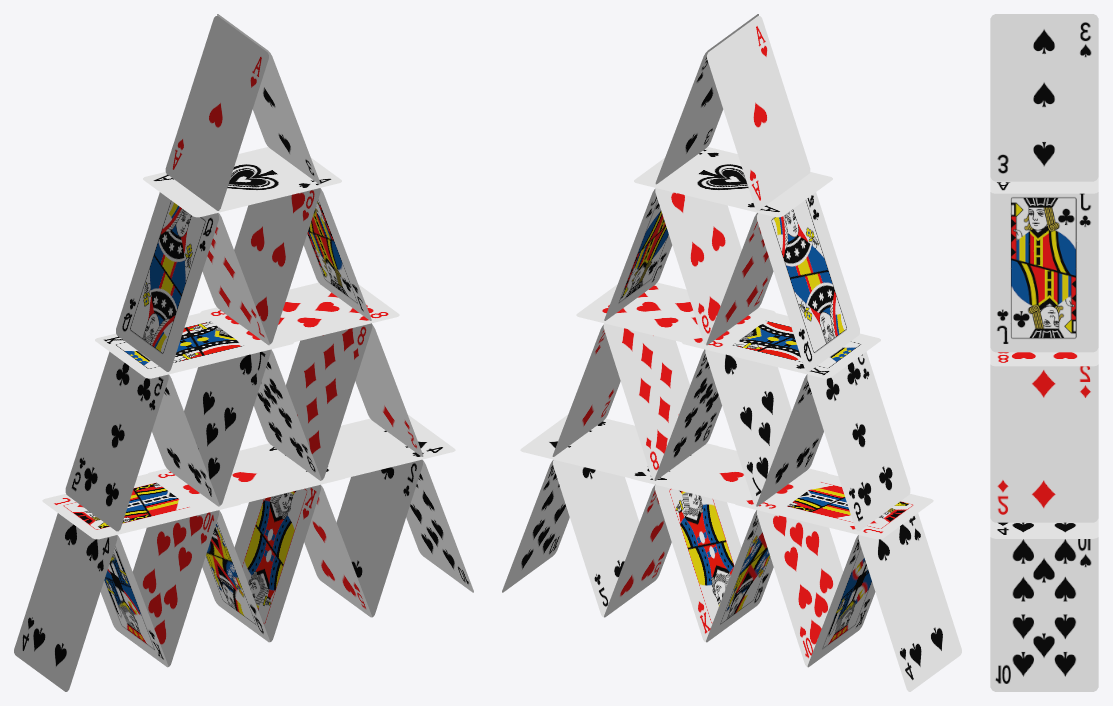
File: Tower_00.fbx
3 views of the same model, side by side, from view 1: azimuth 30°, elevation 25°; view 2: azimuth 150°, elevation 25°; view 3: azimuth 270°, elevation 25° (orthographic).
Visible parts, largest first — view 1: Spade_Club, Heart_Diamond; view 2: Spade_Club, Heart_Diamond; view 3: Spade_Club, Heart_Diamond.
Boxes of the visible parts, box(x1,y1,x2,y2) form: Spade_Club: box(14, 14, 473, 691); Heart_Diamond: box(42, 16, 423, 666); Spade_Club: box(502, 14, 961, 691); Heart_Diamond: box(552, 16, 933, 666); Spade_Club: box(990, 14, 1098, 691); Heart_Diamond: box(990, 348, 1098, 522).
Size of the model in its own units: 24.31 by 33.75 by 5.7.
